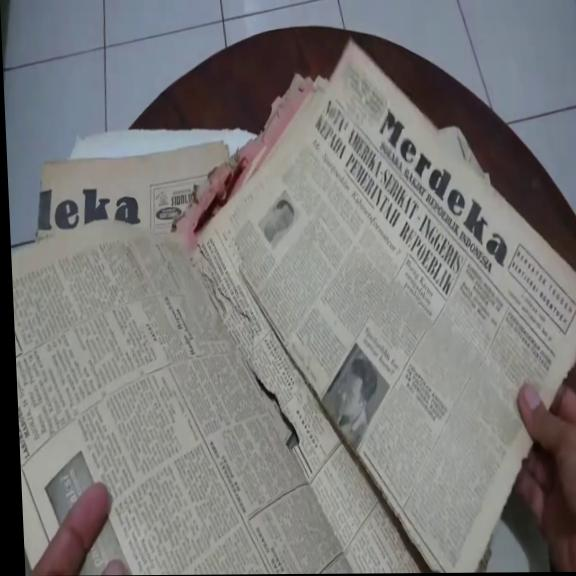Kertas: (194, 150, 479, 572), (11, 240, 204, 441)
